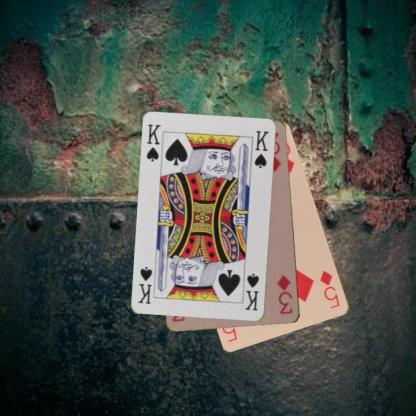3d: (275, 273, 294, 316)
5d: (317, 268, 342, 310)
Ks: (242, 270, 260, 312), (144, 122, 162, 163)
